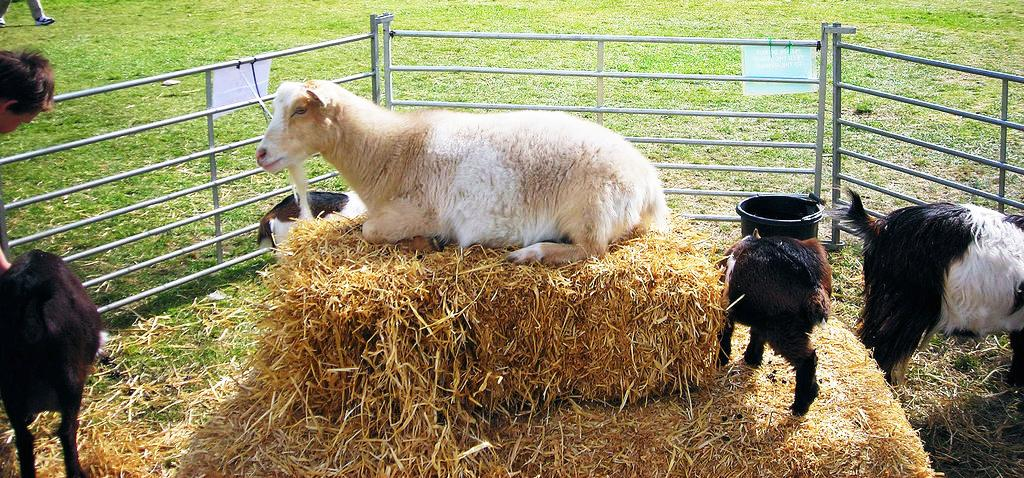Sheep: (255, 83, 670, 268)
